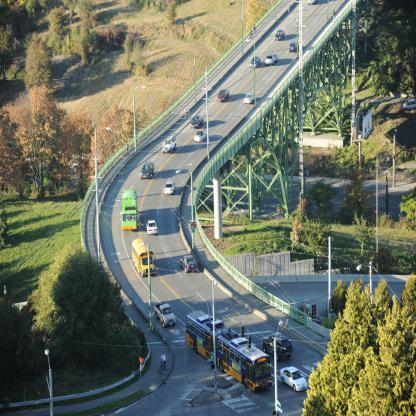Bus: (183, 307, 275, 392), (131, 236, 156, 278), (120, 188, 138, 232)
